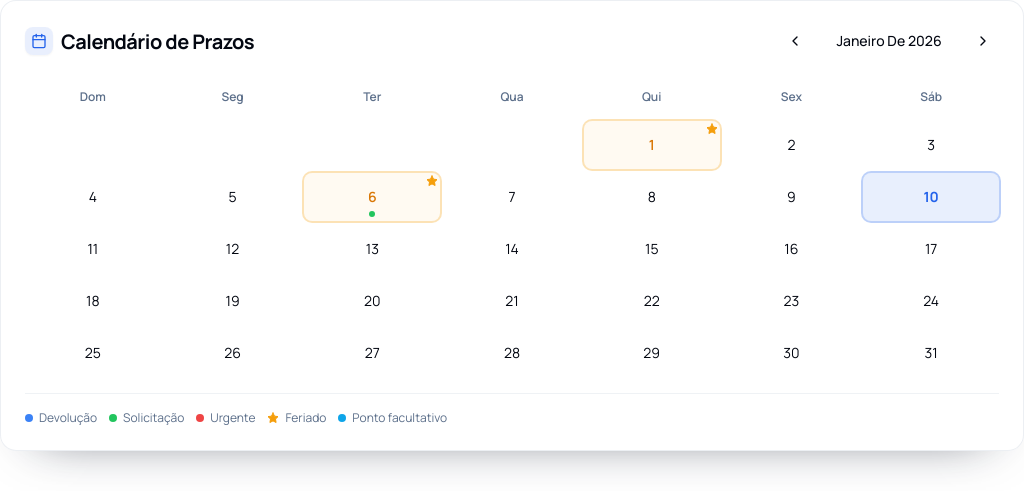
Test case: PrazosCalendar › abre detalhes do dia por clique/foco em botão acessível
Click the button named "6 de janeiro de 2026." at (372, 197), box [304,173,440,221]
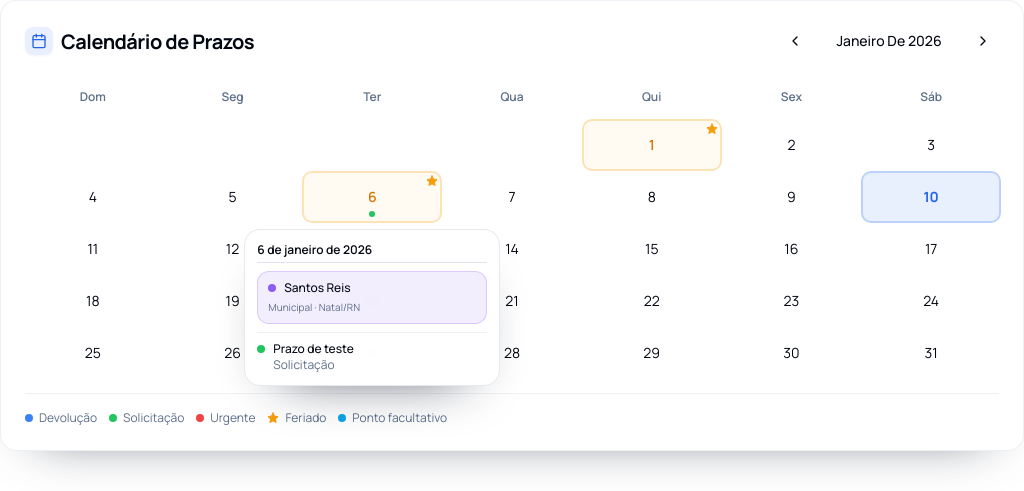
Now the text "Prazo de teste" is shown, box [273,340,354,357]
Now the text "Santos Reis" is shown, box [284,279,351,296]
